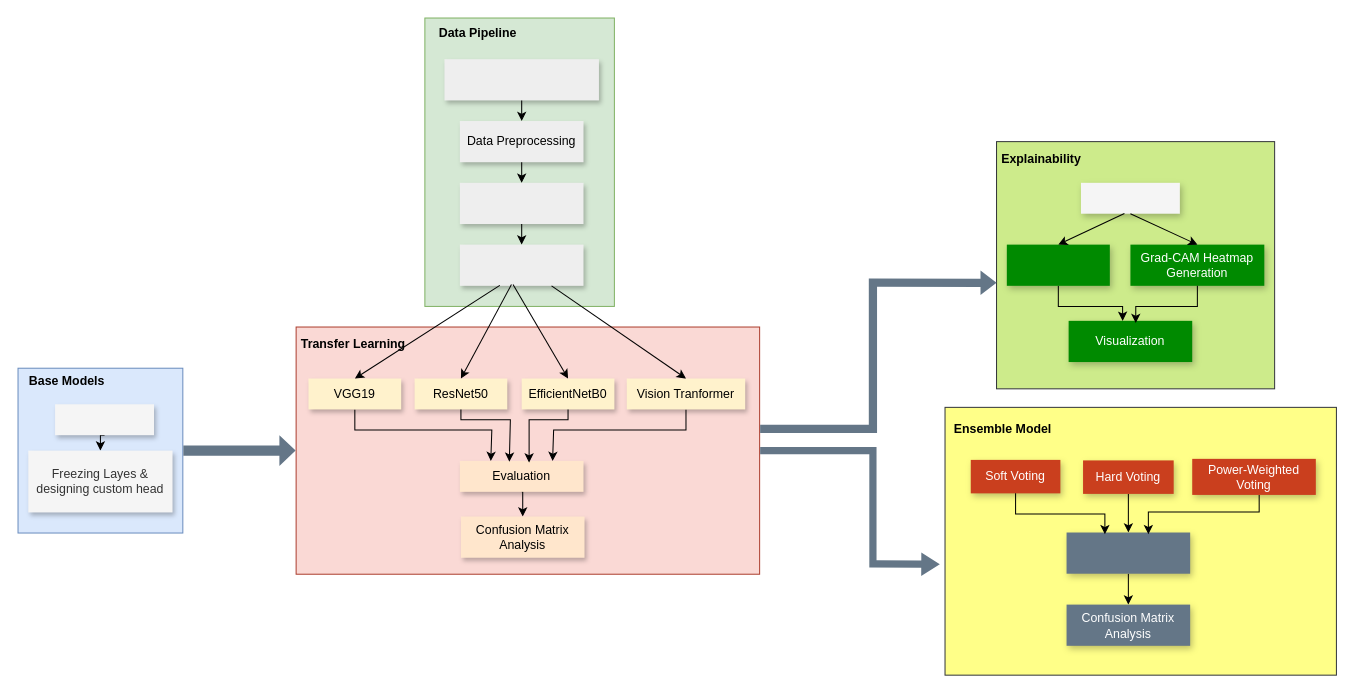
The diagram is 1354 pixels wide and 693 high, and some of its shapes have lost their labels. Each missing label, with the centre of its shape:
"Class Prediction" goes at (x=1059, y=266).
"Data Augmentation" goes at (x=522, y=204).
"Evaluation & Comparision" goes at (x=1129, y=554).
"Load Models" goes at (x=1131, y=199).
"Loading Models" goes at (x=105, y=421).
"Raw Structured Dataset" goes at (x=522, y=81).
"Test-Train Data Generators" goes at (x=522, y=266).
